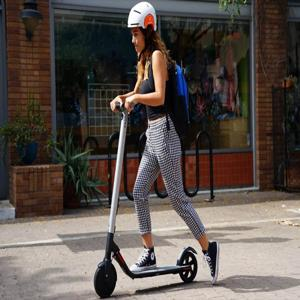human on a scooter: (93, 1, 220, 300)
